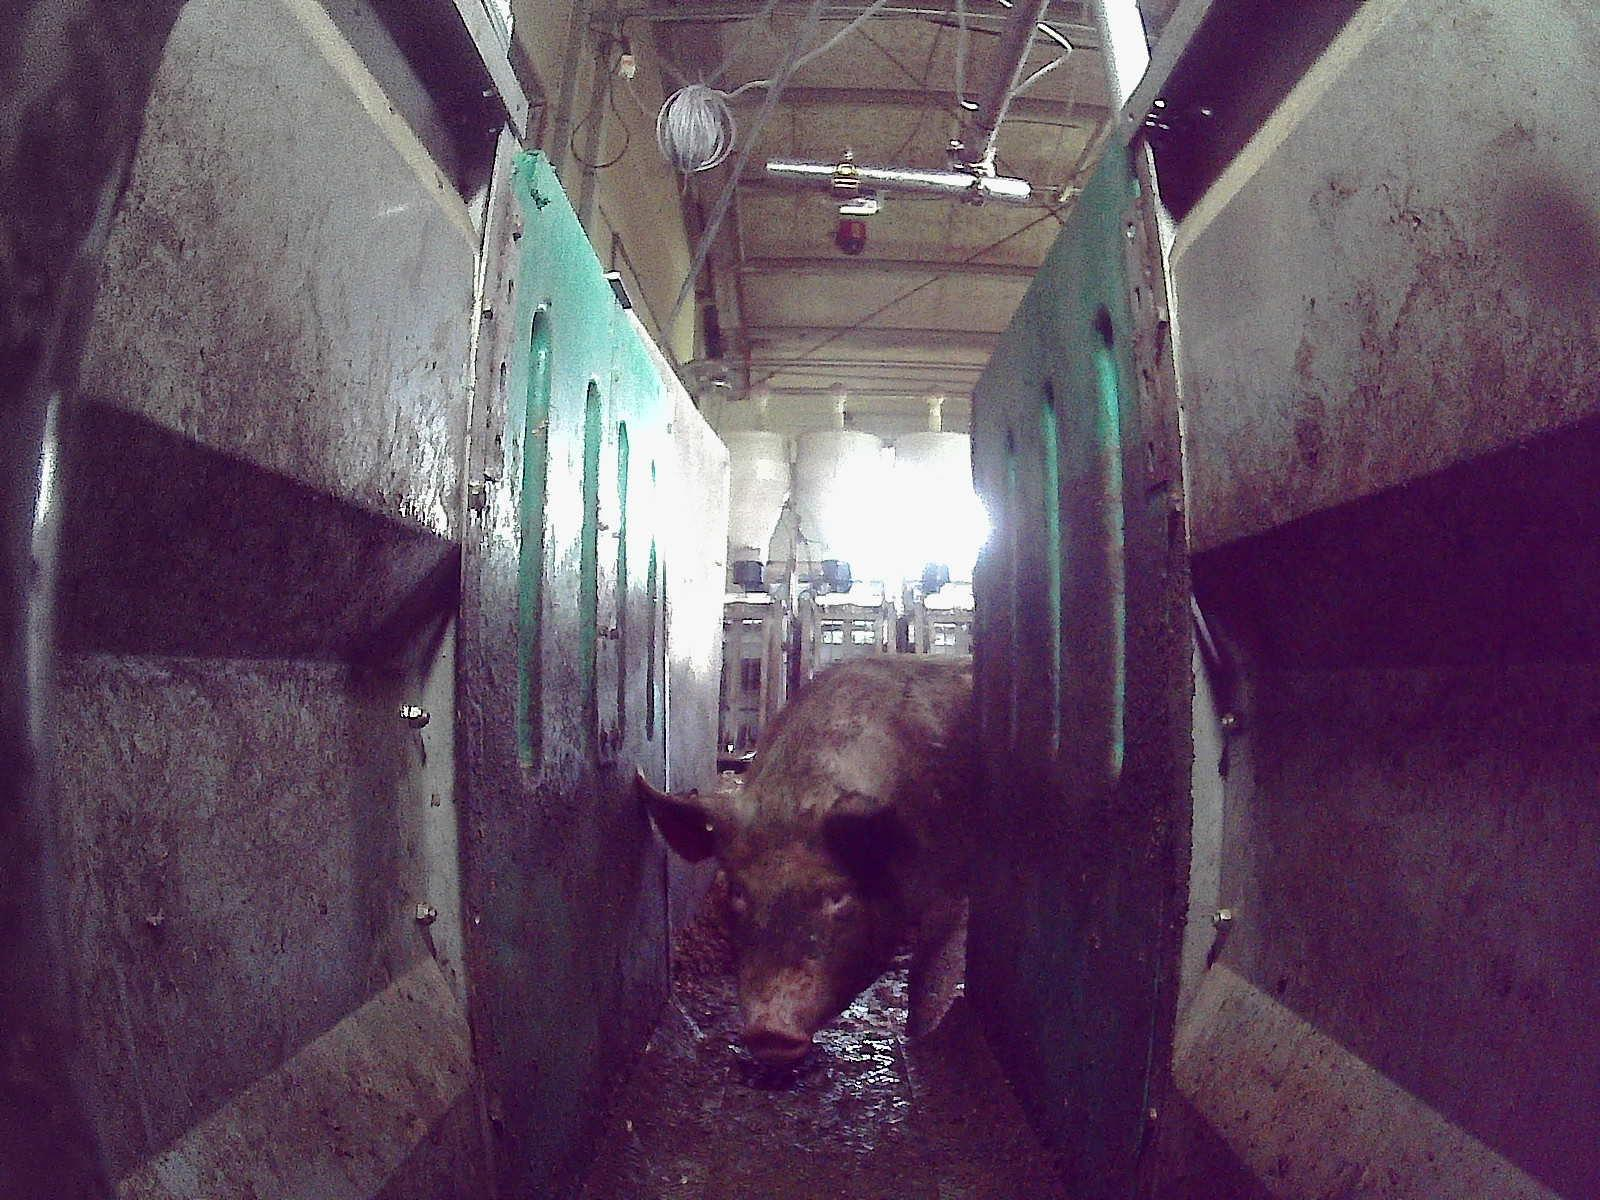Face: (722, 814, 876, 1059)
